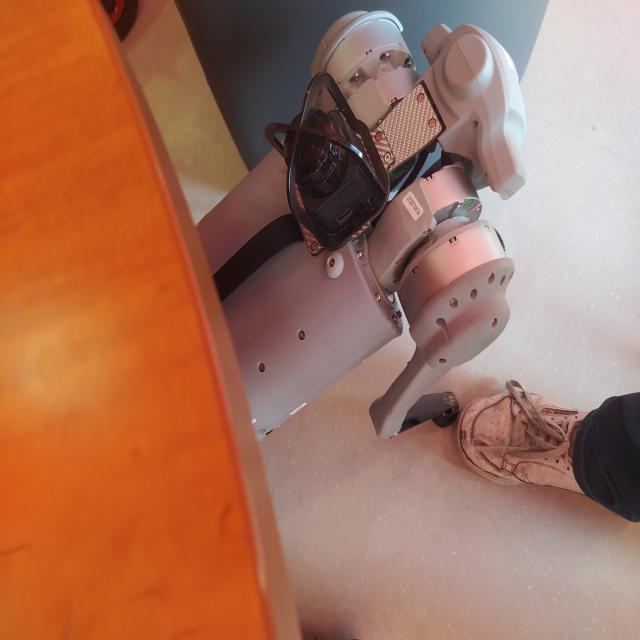unitree-go1-robot: (177, 6, 536, 454)
